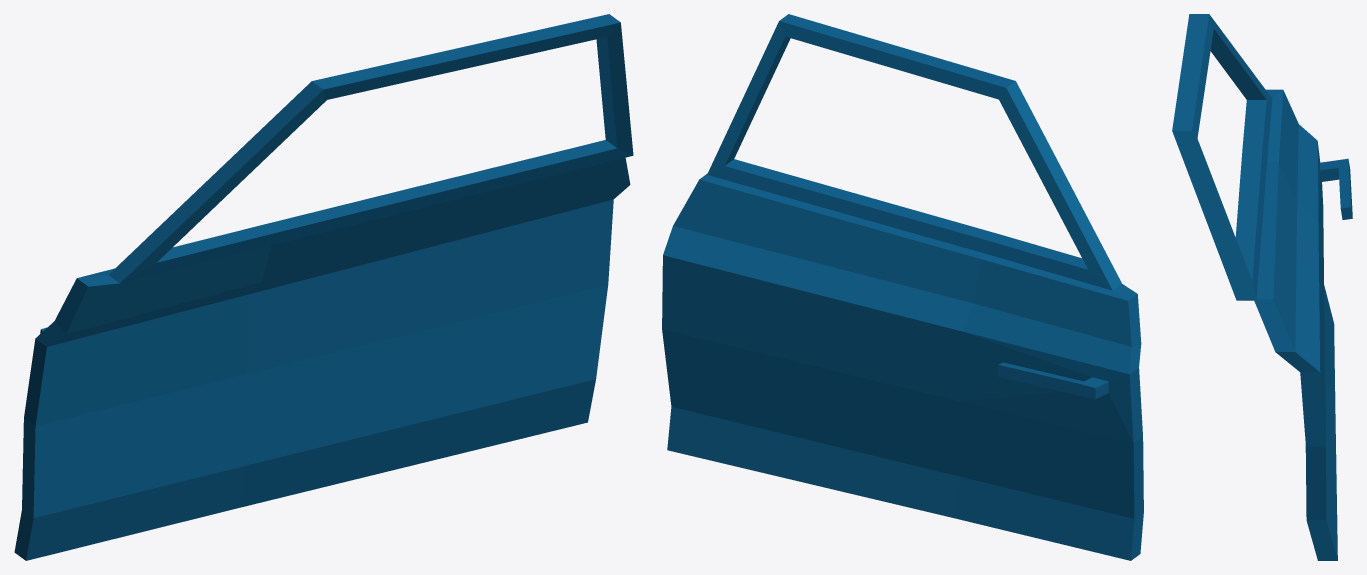
The model's file is Cardoor.fbx.
3 views of the same model, side by side, from view 1: azimuth 30°, elevation 25°; view 2: azimuth 150°, elevation 25°; view 3: azimuth 270°, elevation 25° (orthographic). The views are drawn at different scales.
Parts seen in each view (by area): view 1: Cardoor; view 2: Cardoor; view 3: Cardoor.
Boxes of the visible parts, <box> form: Cardoor: <box>14,14,633,560</box>; Cardoor: <box>662,14,1143,560</box>; Cardoor: <box>1172,14,1352,560</box>.
Bounding box in the file's own units: 190 × 148 × 59.35.
